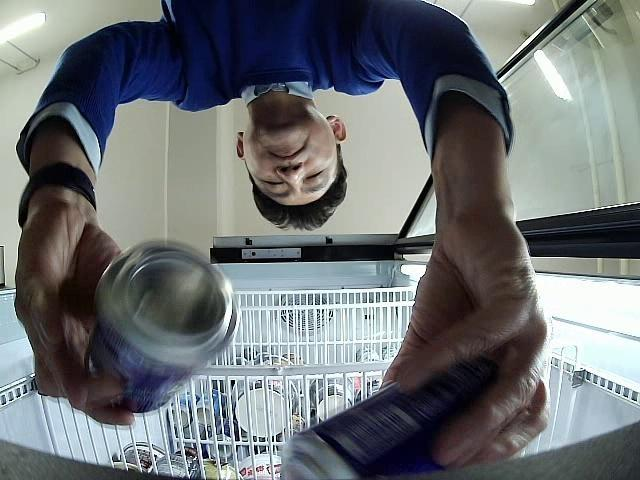14_welchsGrape: (280, 356, 500, 478), (88, 240, 238, 415)
